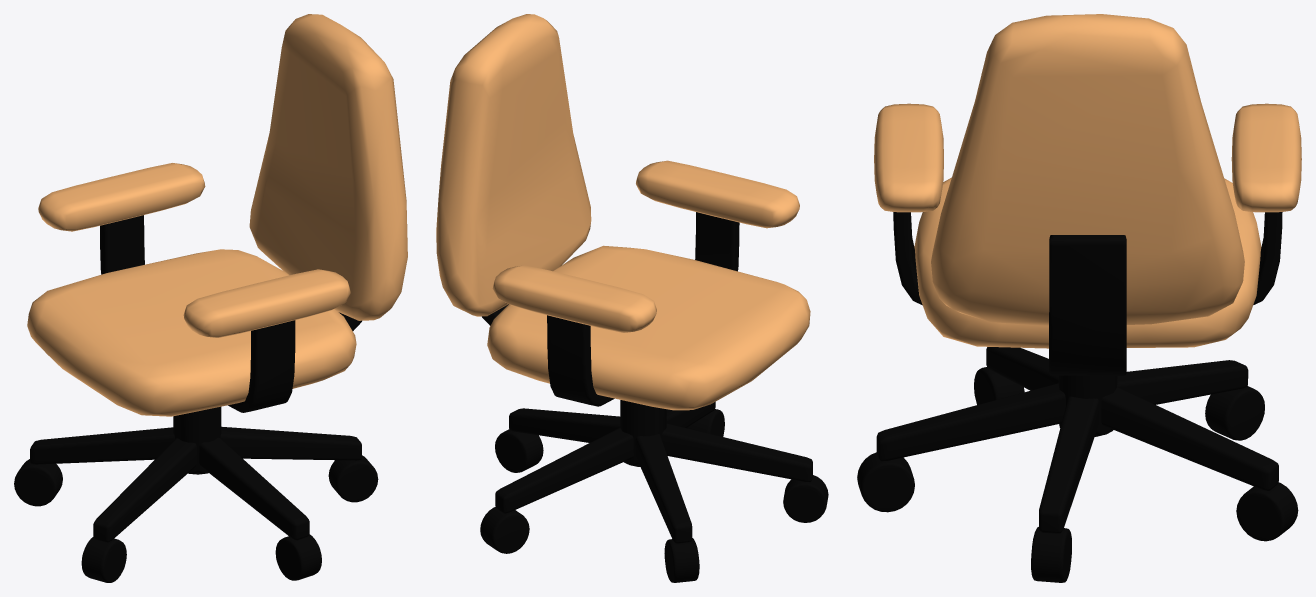
Rendered from office_chair_orange.fbx.
The picture shows the model from 3 angles, left to right: view 1: azimuth 30°, elevation 25°; view 2: azimuth 150°, elevation 25°; view 3: azimuth 270°, elevation 25°; orthographic projection. The views are drawn at different scales.
Visible parts, largest first — view 1: office_chair_orange; view 2: office_chair_orange; view 3: office_chair_orange.
Part boxes in pixels (box(x1,y1,x2,y2)): office_chair_orange: box(14, 14, 407, 582); office_chair_orange: box(436, 14, 828, 582); office_chair_orange: box(857, 14, 1301, 582).
Size of the model in its own units: 76.26 by 103 by 73.42.
2 materials, 2 textured.
